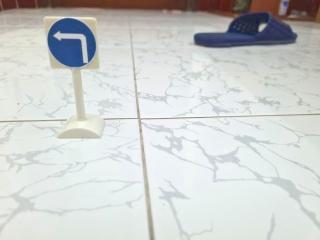left: (41, 15, 102, 74)
